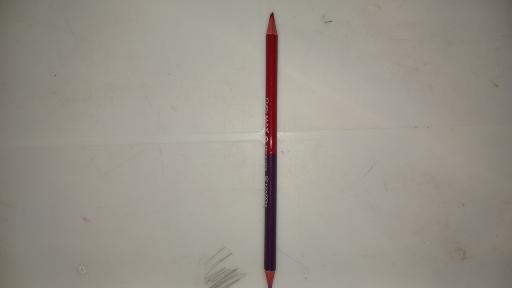Pencil: (261, 12, 279, 288)
